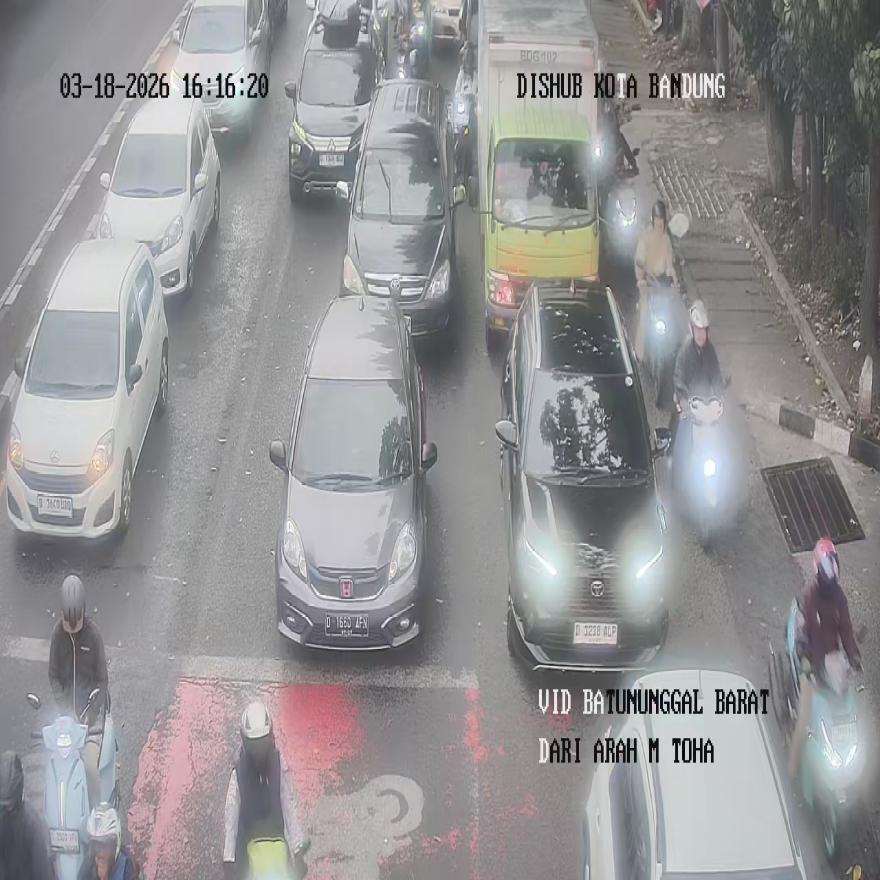Mobil: (495, 279, 671, 668), (268, 293, 437, 649), (5, 237, 169, 540), (581, 666, 806, 878), (470, 1, 602, 347), (337, 80, 465, 338), (97, 75, 220, 298), (283, 3, 379, 202), (169, 0, 272, 139)
Motor: (768, 598, 866, 866), (27, 688, 120, 879), (222, 702, 308, 878), (670, 375, 738, 548), (0, 750, 55, 880), (595, 127, 638, 276), (638, 271, 684, 410), (77, 803, 140, 880), (403, 0, 432, 79)
